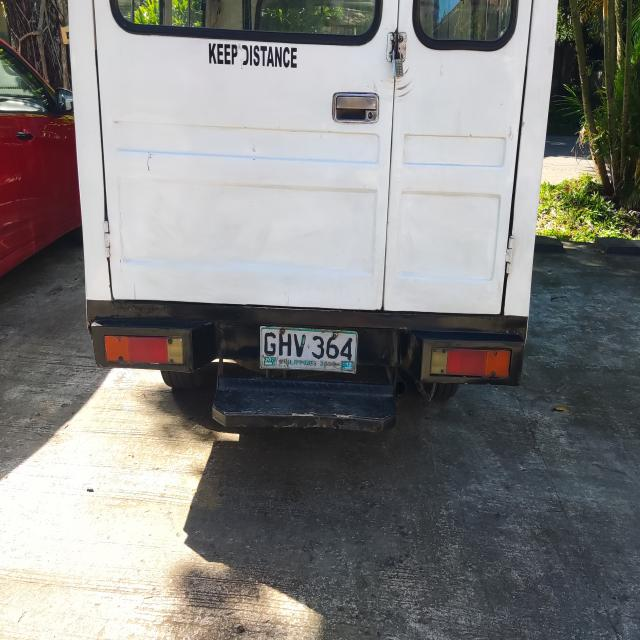plate: (258, 324, 359, 376)
